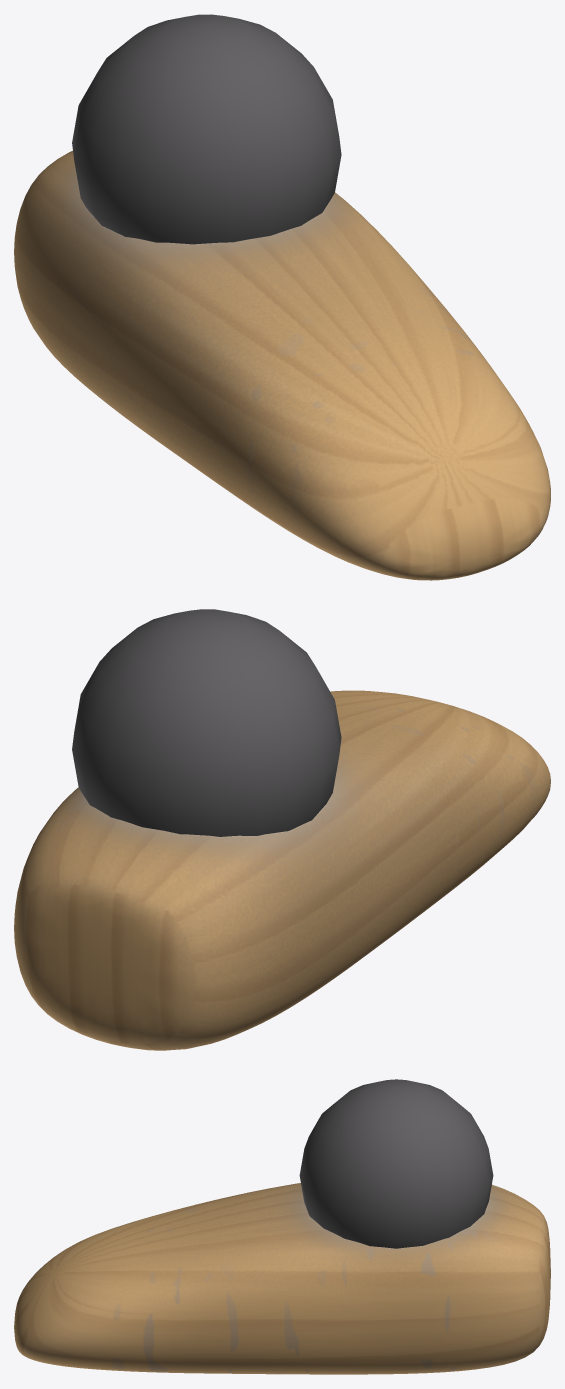
Rendered from Foot_L.glb.
The picture shows the model from 3 angles, top to bottom: view 1: azimuth 30°, elevation 25°; view 2: azimuth 150°, elevation 25°; view 3: azimuth 270°, elevation 25°; orthographic projection. The views are drawn at different scales.
Parts seen in each view (by area): view 1: Foot_L, Foot_L_Ball; view 2: Foot_L, Foot_L_Ball; view 3: Foot_L, Foot_L_Ball.
Part boxes in pixels (bbox=[...]): Foot_L: bbox=[14, 150, 550, 580]; Foot_L_Ball: bbox=[72, 14, 341, 244]; Foot_L: bbox=[14, 690, 550, 1050]; Foot_L_Ball: bbox=[72, 609, 341, 836]; Foot_L: bbox=[14, 1183, 550, 1374]; Foot_L_Ball: bbox=[299, 1079, 493, 1248].
Size of the model in its own units: 0.103 by 0.1356 by 0.2494.
2 materials, 1 textured.
